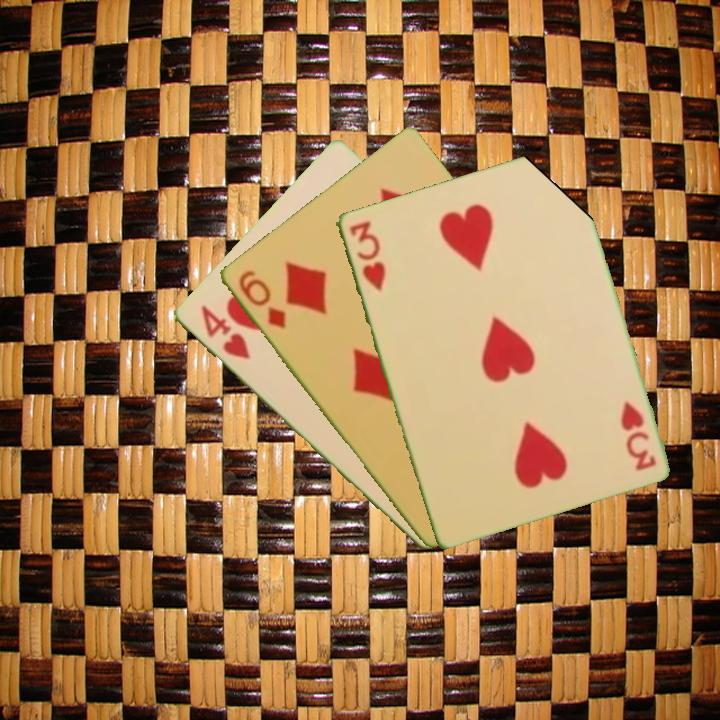3h: (345, 217, 388, 294), (616, 397, 658, 474)
4h: (196, 301, 253, 363)
6d: (234, 266, 289, 332)
